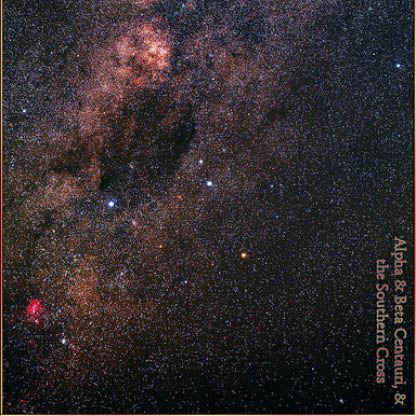Southern Cross: (229, 241, 257, 273), (199, 174, 219, 197), (103, 193, 123, 215), (176, 272, 193, 290)
